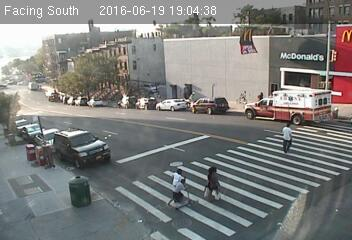neg: (19, 41, 48, 80), (200, 74, 228, 112), (69, 115, 95, 149), (99, 46, 125, 80), (27, 117, 52, 151), (31, 171, 56, 204), (74, 172, 98, 204), (56, 68, 80, 100), (236, 25, 260, 56), (265, 63, 288, 94), (132, 86, 153, 114), (156, 135, 177, 163), (158, 38, 178, 65)
pos: (198, 156, 230, 199), (275, 119, 303, 155), (173, 176, 194, 205), (165, 162, 183, 186)
